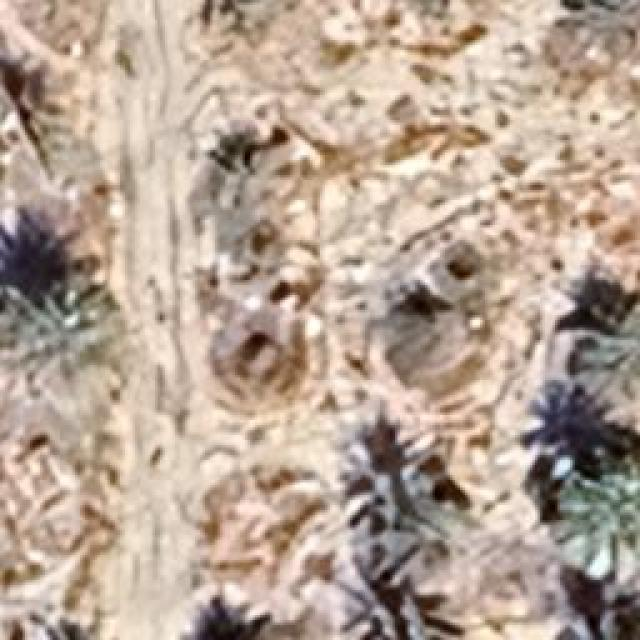PalmTree: (68, 55, 251, 612), (10, 270, 120, 390), (550, 470, 638, 592), (388, 276, 489, 380), (226, 306, 330, 398), (342, 560, 440, 640), (335, 450, 430, 532), (568, 305, 638, 405), (0, 52, 62, 150), (562, 0, 640, 60), (184, 0, 281, 33), (17, 613, 121, 640), (552, 608, 630, 638), (18, 619, 116, 640)
